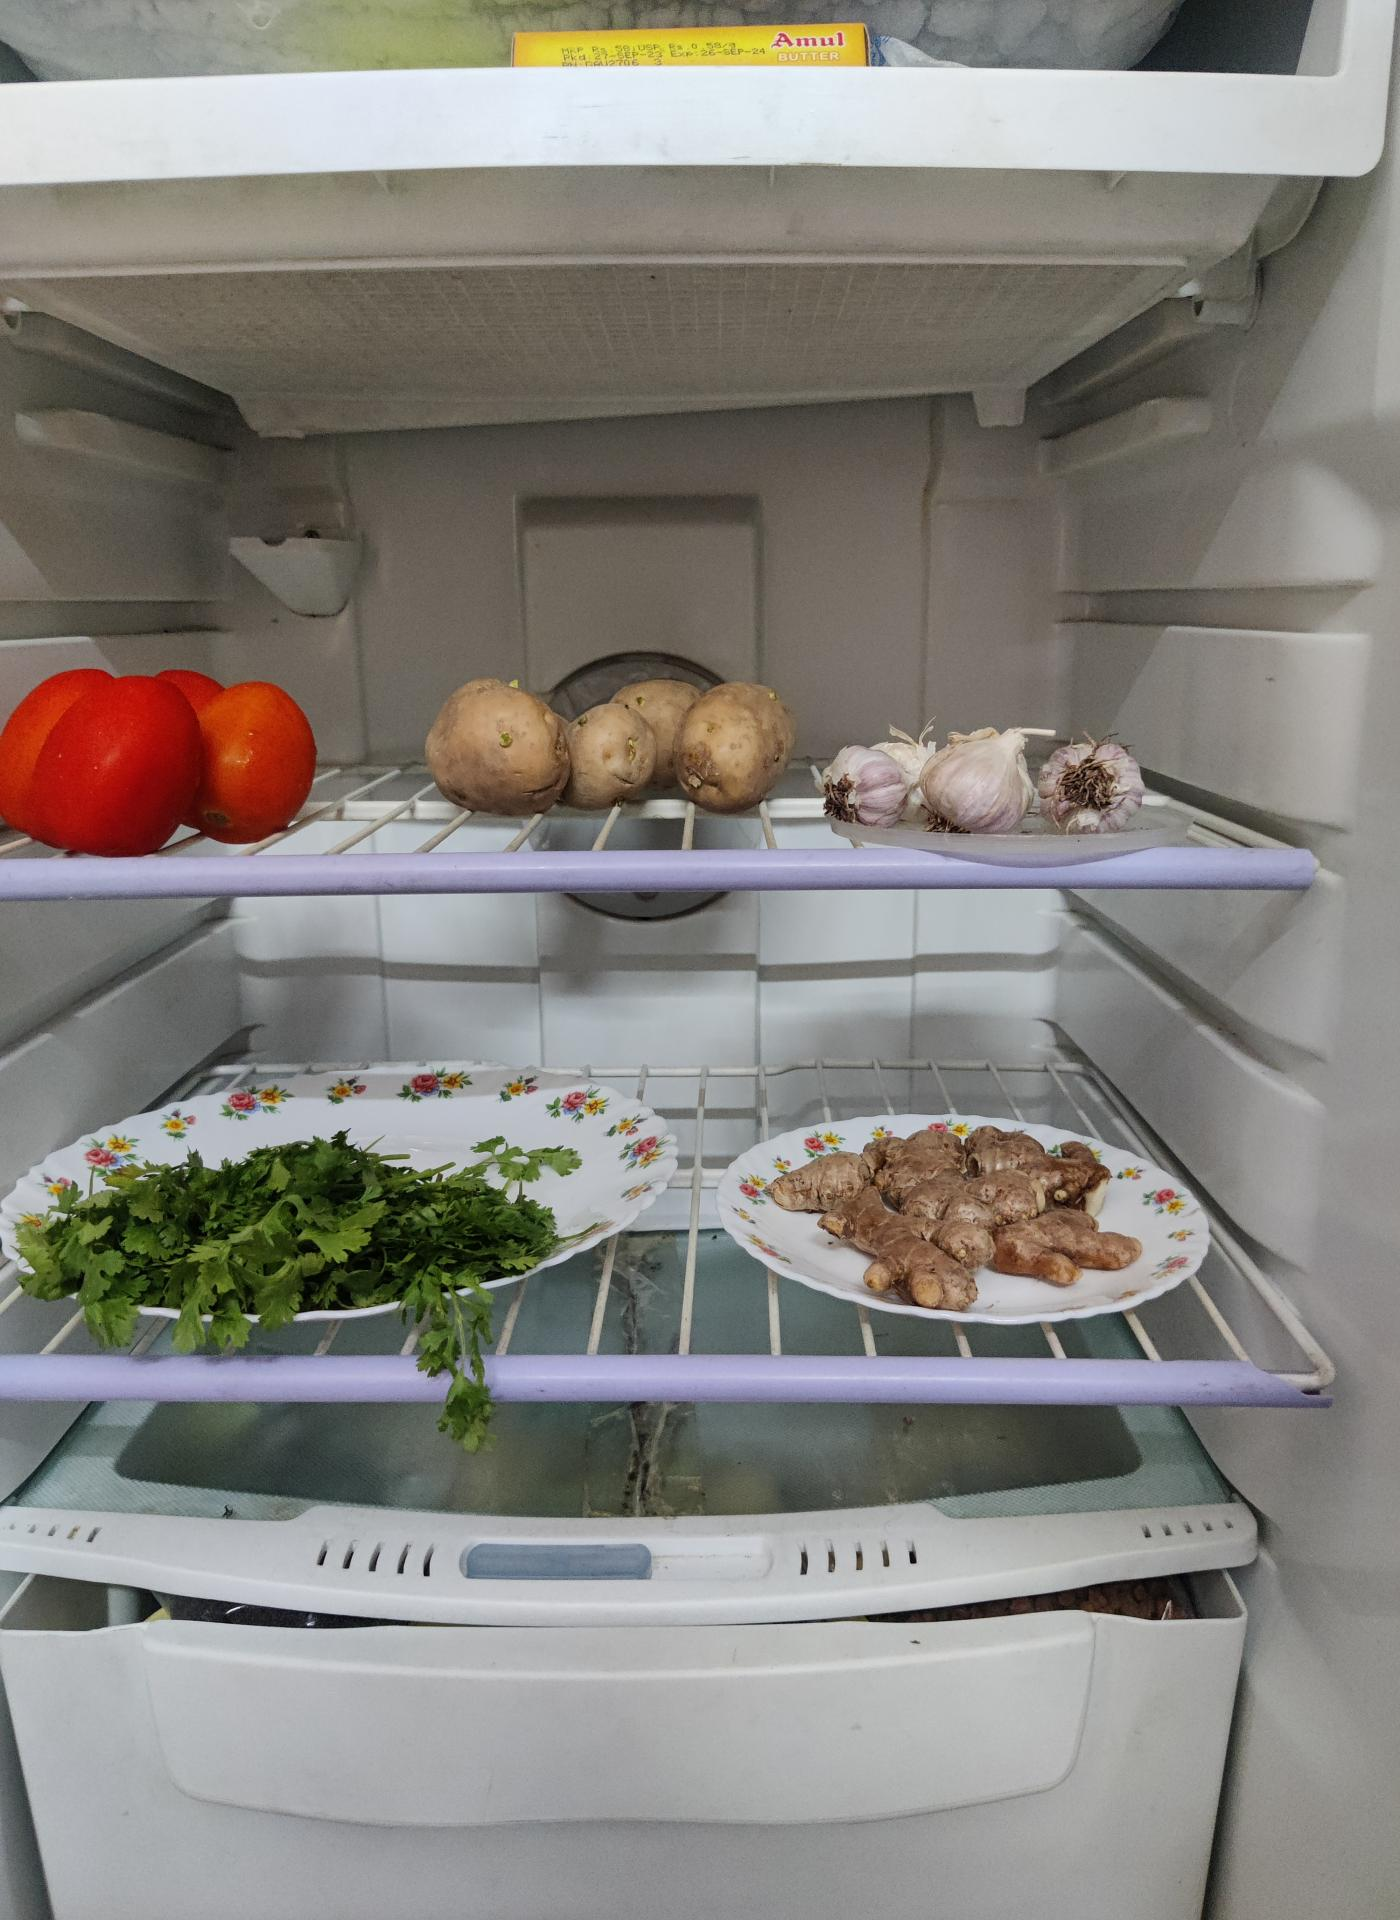coriander: (3, 1148, 552, 1352)
garlic: (827, 698, 1151, 839)
ginger: (747, 1122, 1130, 1316)
potato: (429, 677, 807, 823)
tomato: (4, 657, 324, 848)
